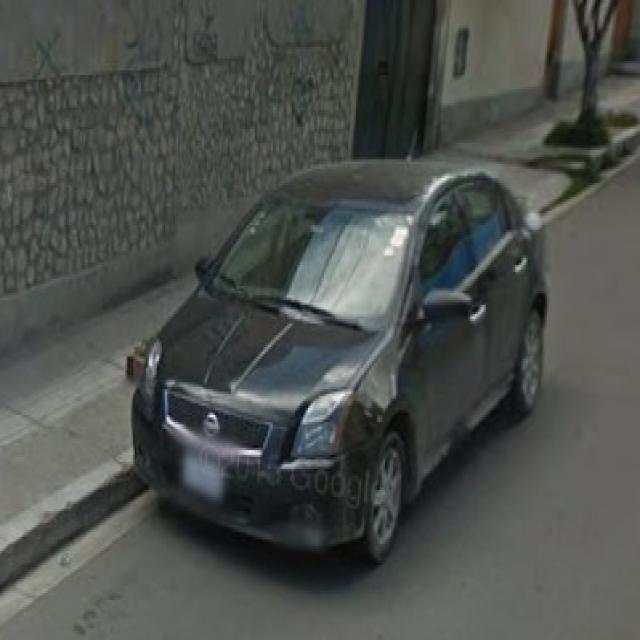Car: (136, 172, 558, 568)
